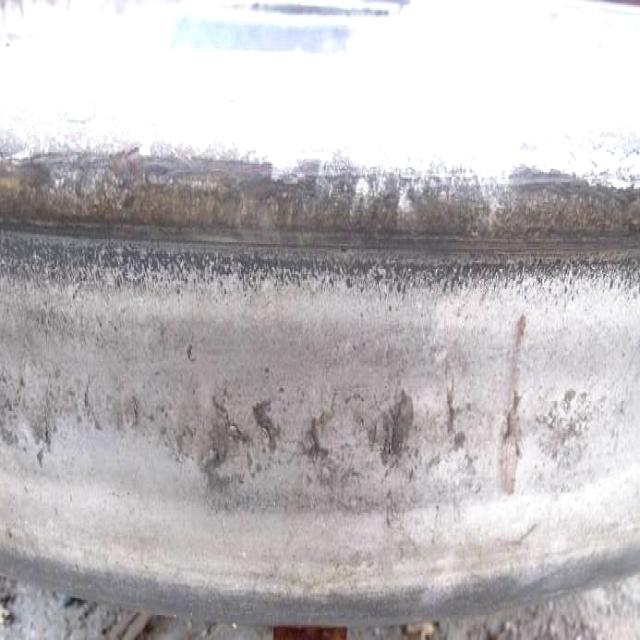Contact_Fatigue_Cracks: (304, 386, 413, 497), (2, 370, 141, 448), (206, 397, 283, 491), (497, 312, 528, 504), (538, 385, 592, 483), (443, 381, 481, 482)
